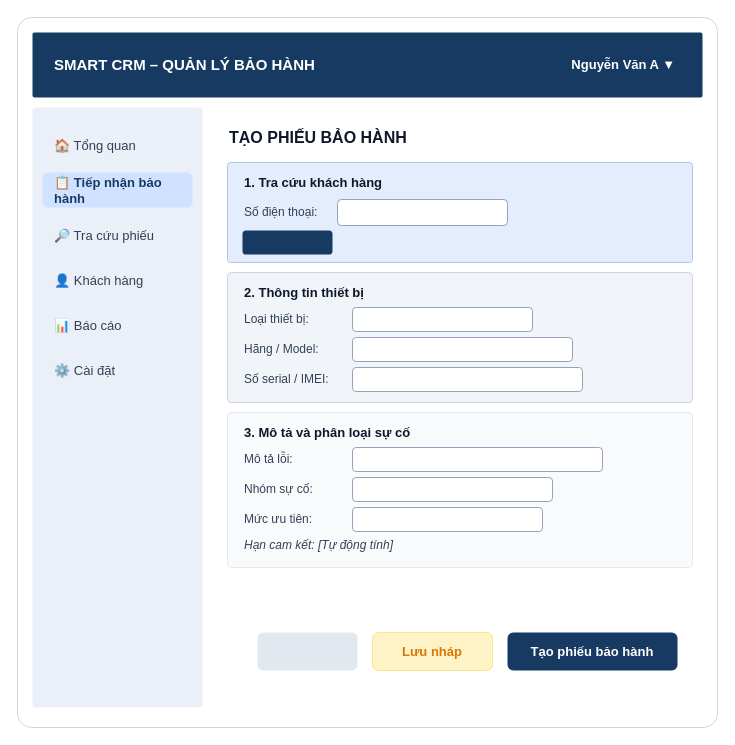
Some shapes in this 735 by 745 pixel diagram are drawn without their labels. Each missing label, with the centre of its shape:
"Hủy" belongs at [307,651].
"Tìm kiếm" belongs at [287,242].
